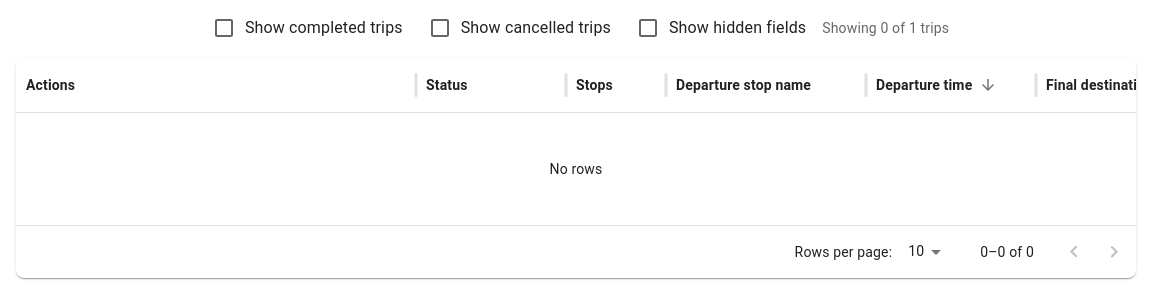
Test: CarPoolingTrips › collapses the same trip returned twice to its latest snapshot
The width and height of the screenshot is (1164, 297).
Expected: the text "Vikersund" is not shown
Expected: the text "Showing 0 of 1 trips" is shown, [822,18,949,38]
Click the checkbox labelled "Show cancelled trips" at (519, 28), box [428,16,611,40]
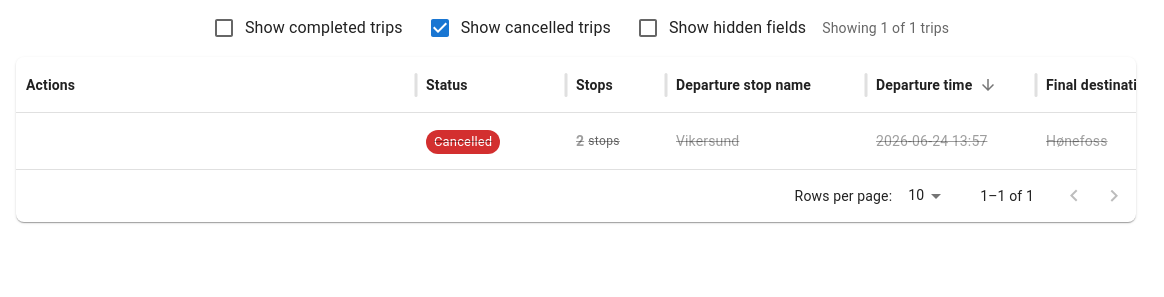
Expected: the number of rows "Vikersund" is 1, [426,130,1136,154]
Expected: the text "Cancelled" is shown, [434,134,492,149]
